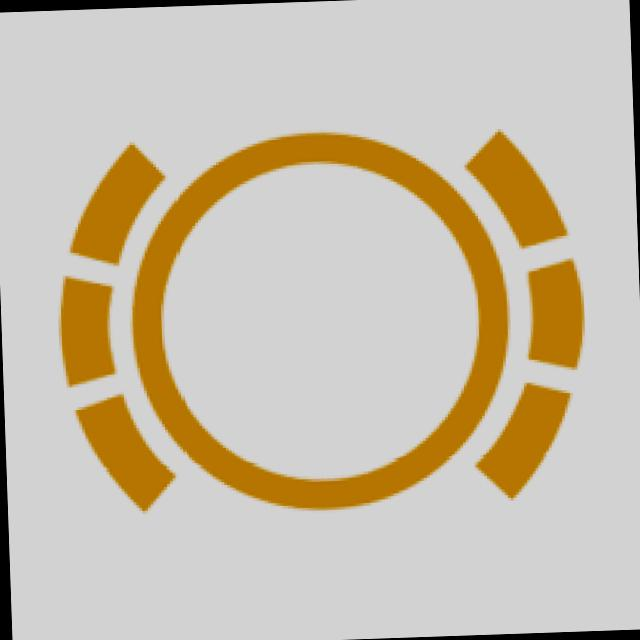kontrolka: (33, 110, 612, 528)
